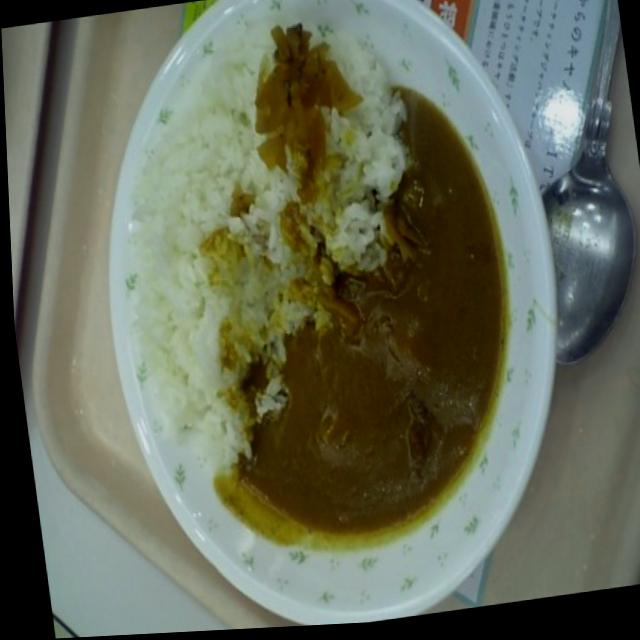牛肉菜式: (61, 0, 591, 638)
